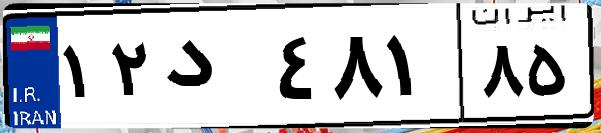1: (385, 28, 445, 110), (57, 26, 110, 100)
2: (110, 28, 158, 98)
4: (270, 28, 330, 110)
5: (525, 38, 570, 115)
8: (330, 28, 385, 110), (475, 38, 525, 113)
د: (158, 20, 270, 120)
